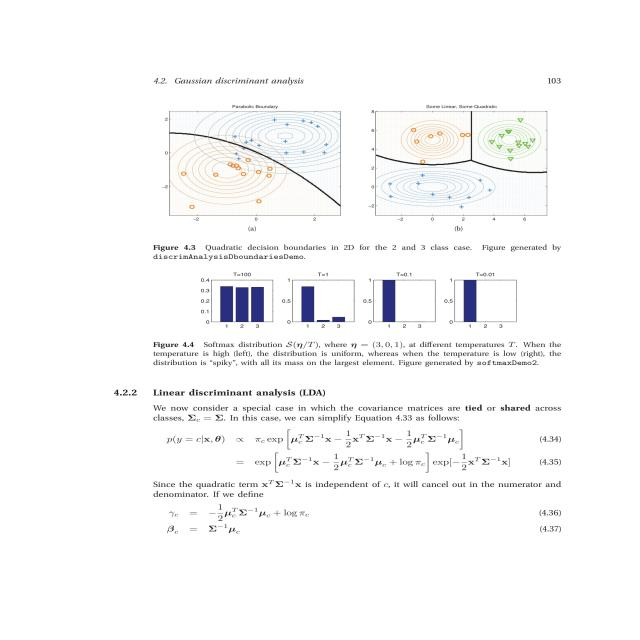diagram: (117, 85, 577, 378)
